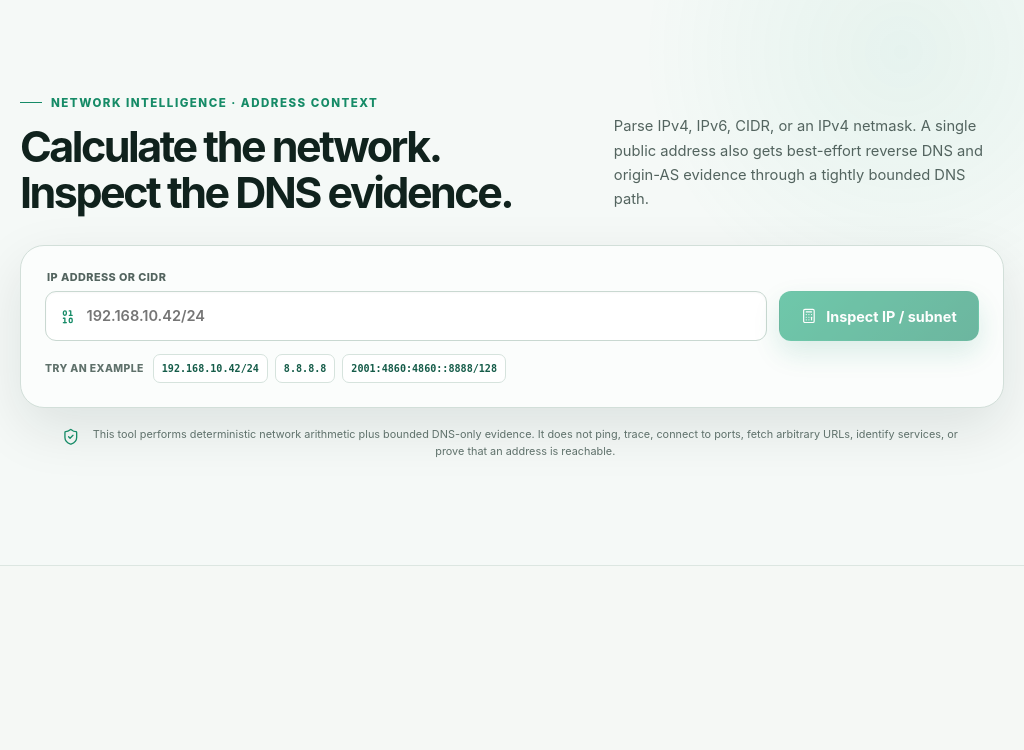
Test: IP and subnet interactions › calculates a global address and renders PTR, ASN, and exact network evidence
The width and height of the screenshot is (1024, 750).
Click the button "8.8.8.8": (305, 369) 275,354 -> 335,383
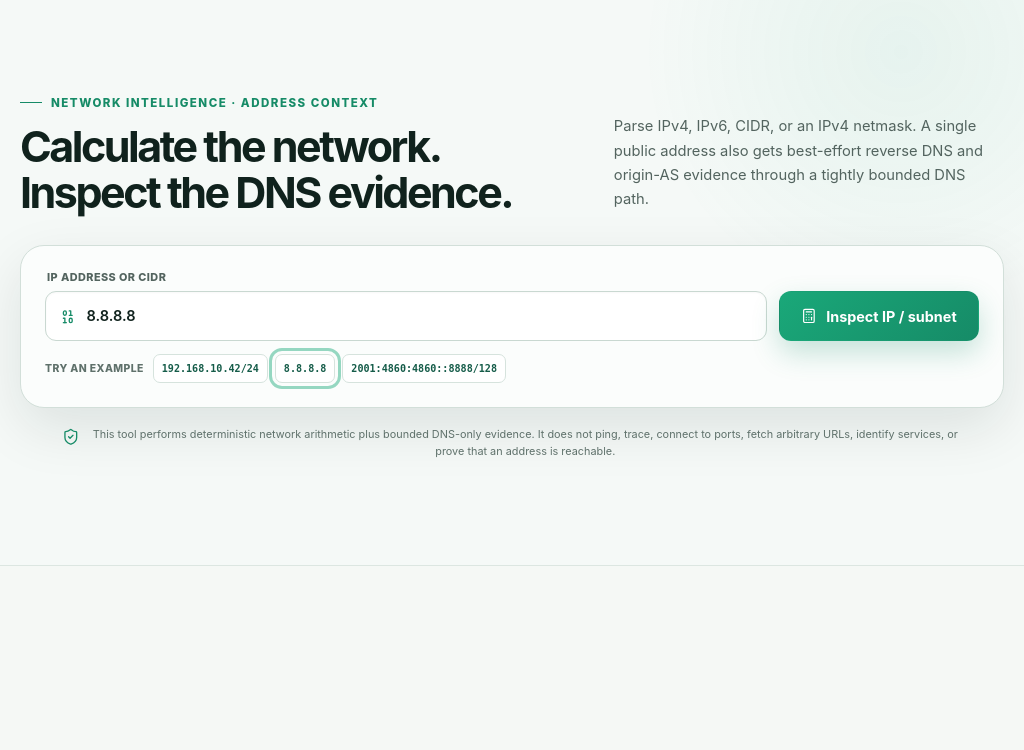
Click the button "Inspect IP / subnet": (879, 316) 779,291 -> 979,341
(page scrolled)
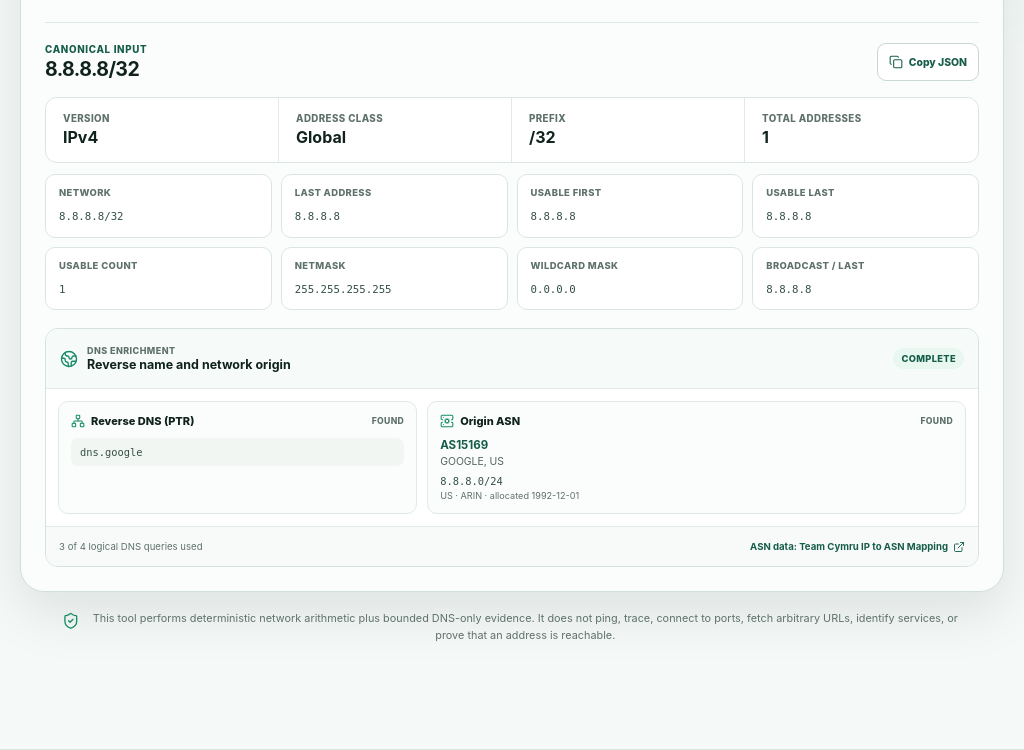
Now the text "Canonical input" is shown, box 45,44 -> 147,55
Now the heading "8.8.8.8/32" is shown, box 45,57 -> 147,81
Now the text "dns.google" is shown, box 71,438 -> 404,466
